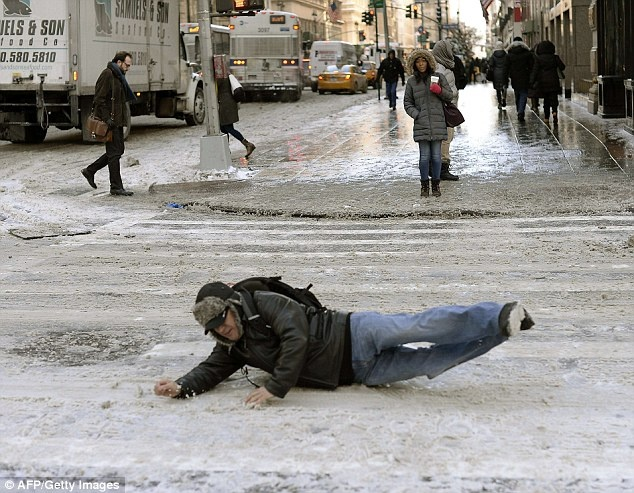falling: (160, 250, 541, 417)
